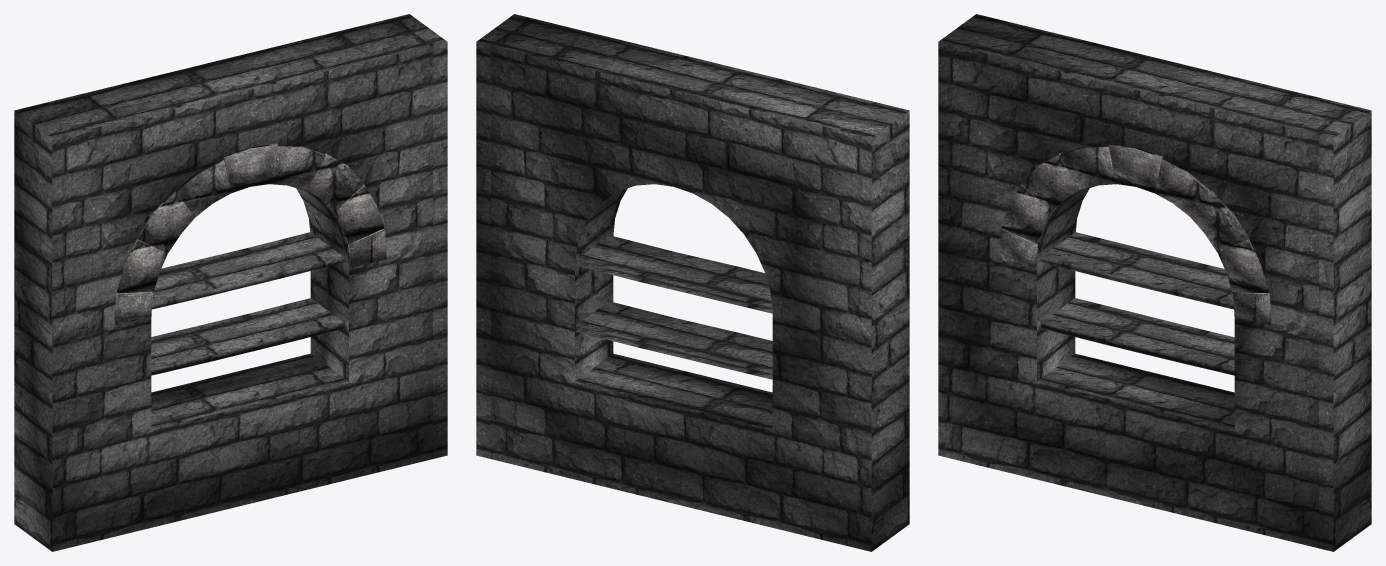
The model's file is stone wall shelf.glb.
3 views of the same model, side by side, from view 1: azimuth 30°, elevation 25°; view 2: azimuth 150°, elevation 25°; view 3: azimuth 330°, elevation 25° (orthographic).
Visible parts, largest first — view 1: Arch Alcove; view 2: Arch Alcove; view 3: Arch Alcove.
Boxes of the visible parts, <box> form: Arch Alcove: <box>14,14,447,551</box>; Arch Alcove: <box>476,14,909,551</box>; Arch Alcove: <box>938,14,1371,551</box>.
Bounding box in the file's own units: 2.74 × 2.74 × 0.4723.
2 materials, 2 textured.
